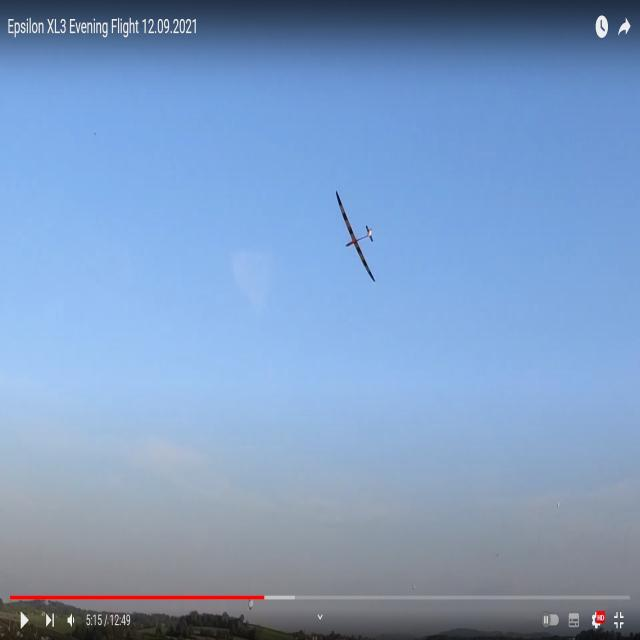iha: (333, 217, 383, 253)
